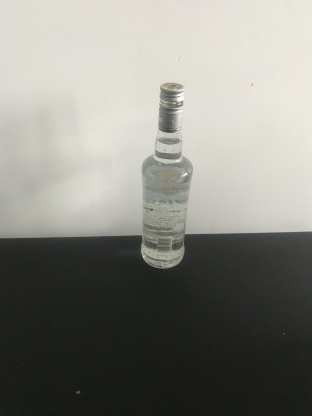nakretka: (157, 80, 185, 133)
